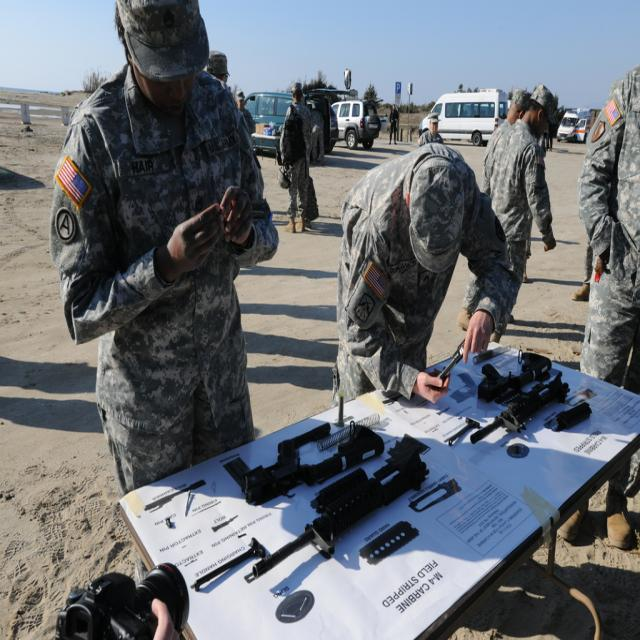weapon: (248, 434, 432, 576), (466, 361, 576, 441)
